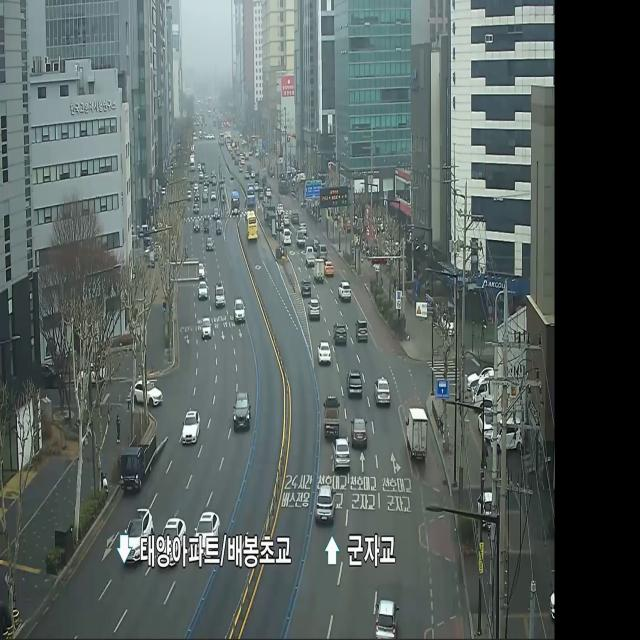car: (243, 212, 262, 244), (232, 184, 240, 218)
motorcycle: (123, 500, 154, 570), (316, 478, 342, 530), (163, 519, 186, 573), (126, 379, 172, 405), (374, 592, 396, 640), (332, 430, 353, 478), (196, 512, 212, 566), (345, 368, 366, 403), (234, 392, 250, 437), (349, 416, 370, 450), (183, 411, 202, 447), (374, 374, 393, 408), (315, 338, 333, 373), (211, 278, 228, 310), (336, 276, 351, 310), (229, 297, 247, 325), (332, 315, 346, 350), (201, 307, 213, 346), (298, 275, 314, 304), (357, 316, 369, 352), (326, 252, 338, 279), (198, 282, 210, 308), (204, 236, 216, 262), (190, 201, 206, 220), (310, 297, 321, 324), (281, 226, 292, 248), (193, 261, 206, 279), (190, 219, 202, 237), (215, 216, 224, 235), (212, 203, 221, 221), (202, 192, 212, 207), (202, 217, 210, 235), (211, 189, 218, 205), (194, 190, 201, 203)
truck: (116, 438, 160, 499), (403, 408, 434, 474), (323, 398, 343, 446), (313, 256, 328, 289), (304, 246, 316, 265)
